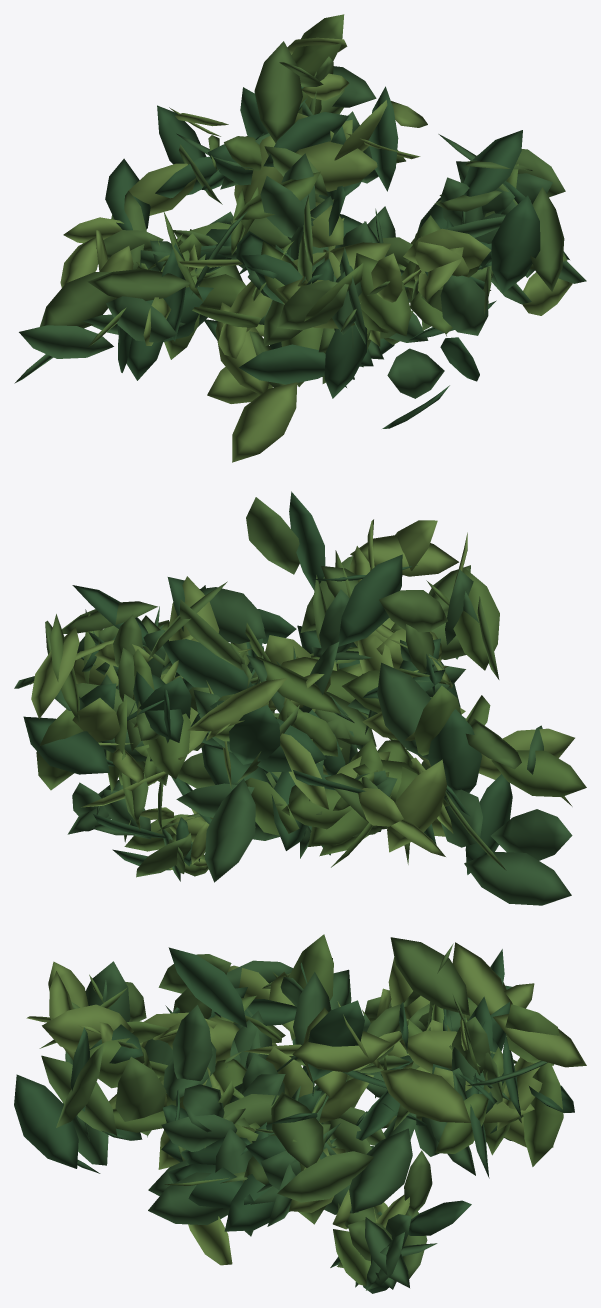
The model's file is coastal_rounded_shrub_v4.glb.
3 renders of one model, top to bottom at view 1: azimuth 30°, elevation 25°; view 2: azimuth 150°, elevation 25°; view 3: azimuth 270°, elevation 25°, orthographic. The views are drawn at different scales.
Visible parts, largest first — view 1: Complete_leaf_canopy_2200; view 2: Complete_leaf_canopy_2200; view 3: Complete_leaf_canopy_2200.
Part boxes in pixels (box(x1,y1,x2,y2)): Complete_leaf_canopy_2200: box(14, 14, 586, 462); Complete_leaf_canopy_2200: box(14, 491, 586, 905); Complete_leaf_canopy_2200: box(14, 934, 586, 1293).
Bounding box in the file's own units: 1.57 × 0.8696 × 1.43.
